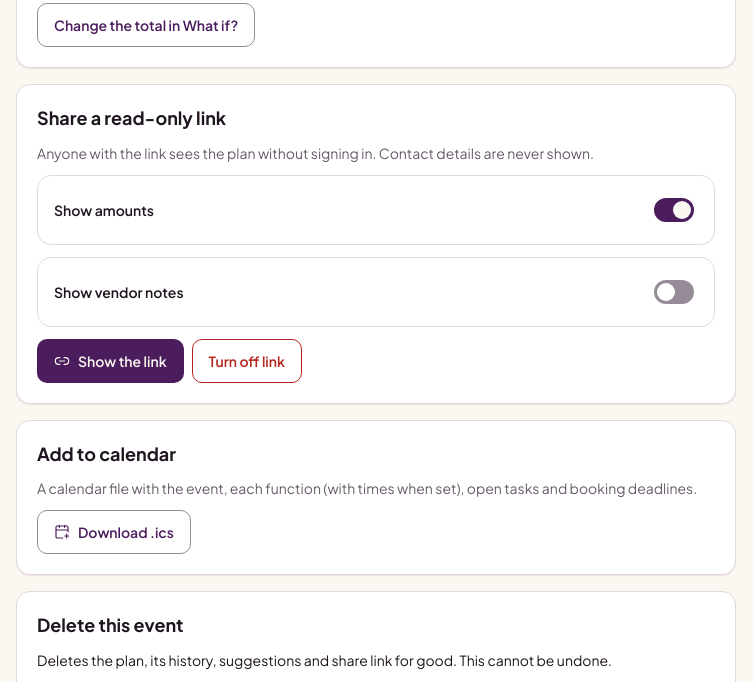
Test: Event settings: failures and existing links › an event that is already shared offers to show its link, keeping the stored options
The width and height of the screenshot is (753, 682).
(page scrolled)
Expected: the switch named "Show amounts" in the row of "Show amounts" is checked, [650,188,698,232]
Expected: the button "Turn off link" is shown, [192,339,302,383]
Click the button "Show the link" at (110, 361), box [37,339,184,383]
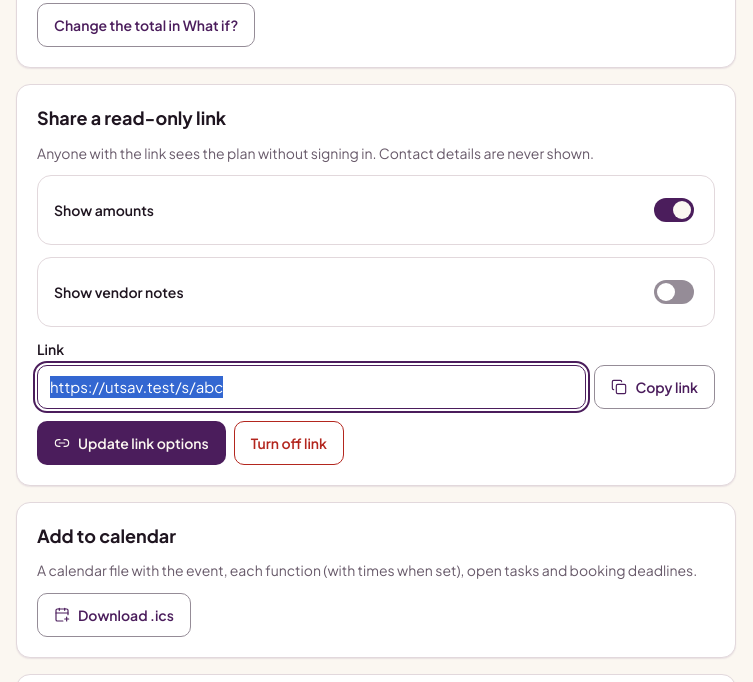
Now the field labelled "Link" holds "https://utsav.test/s/abc", box [37,365,586,409]
